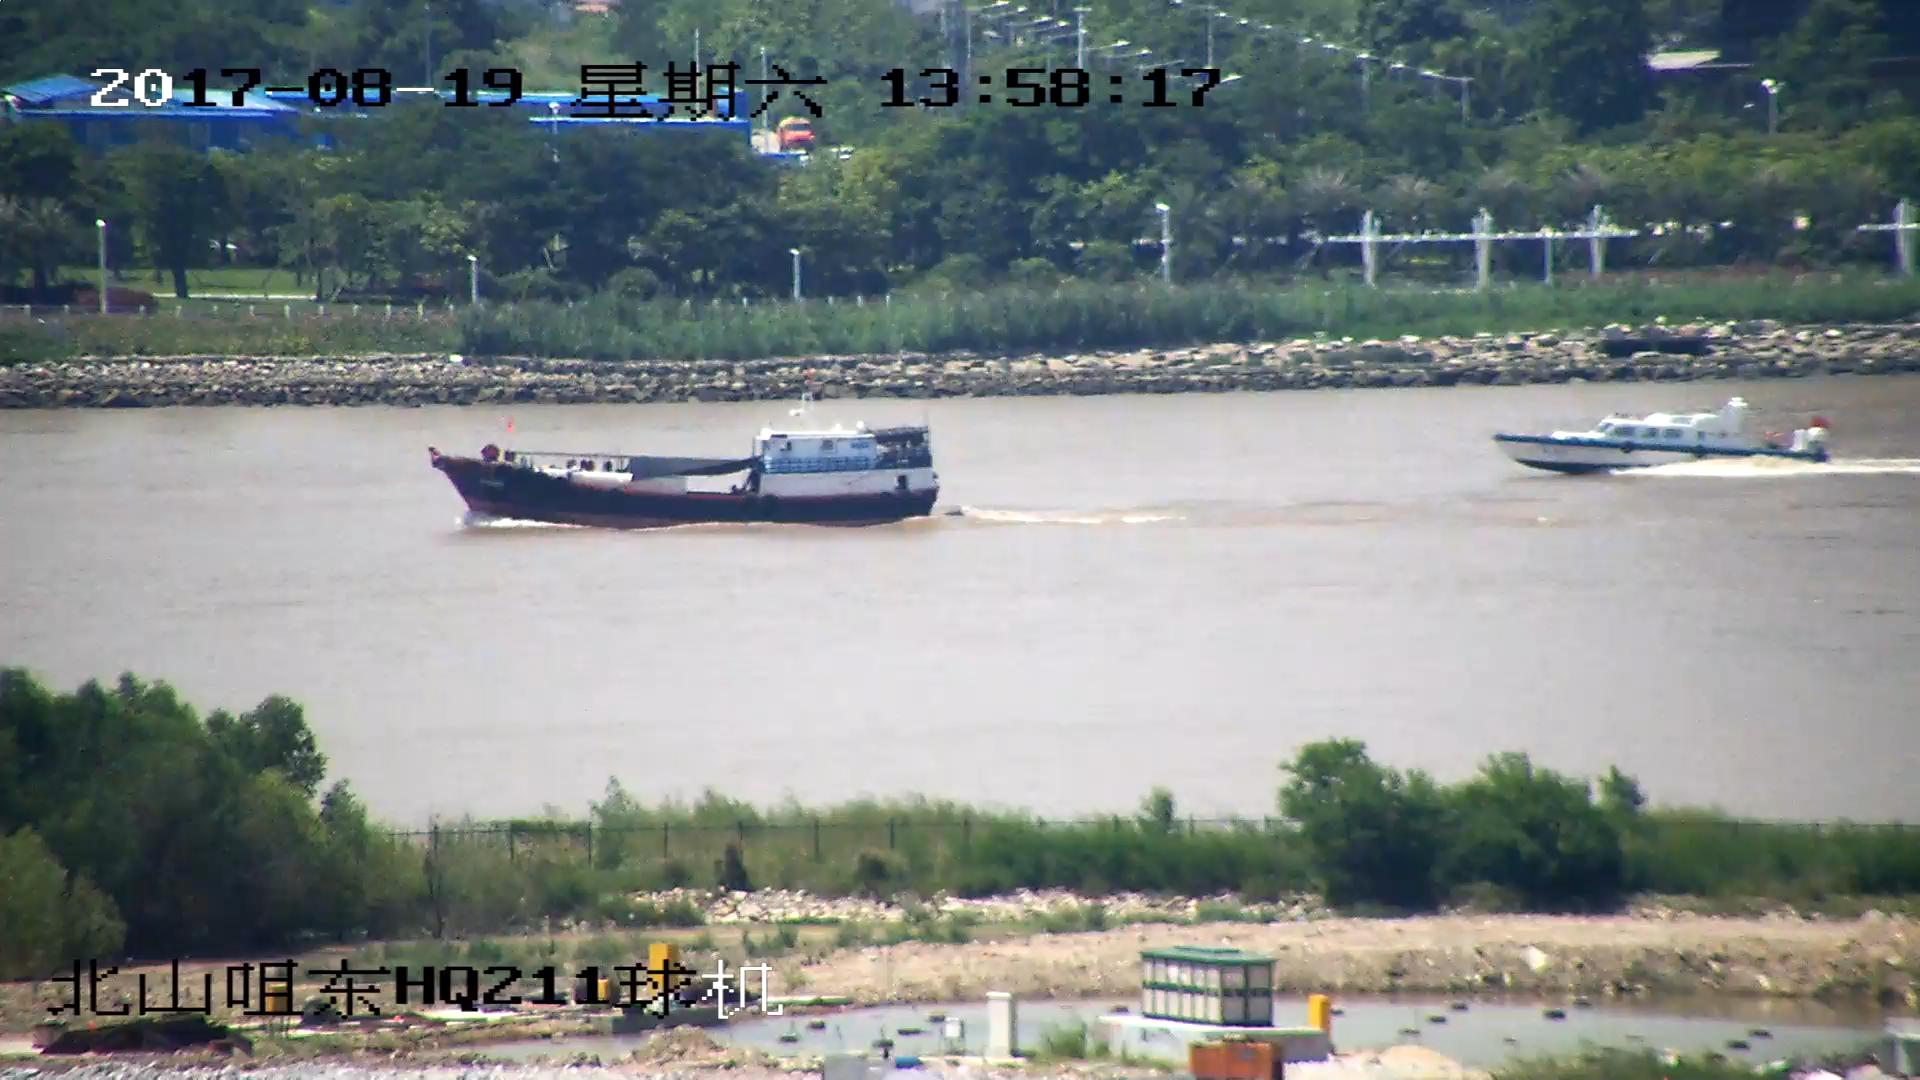fishing boat: (425, 429, 938, 529)
passenger ship: (1490, 406, 1842, 479)
